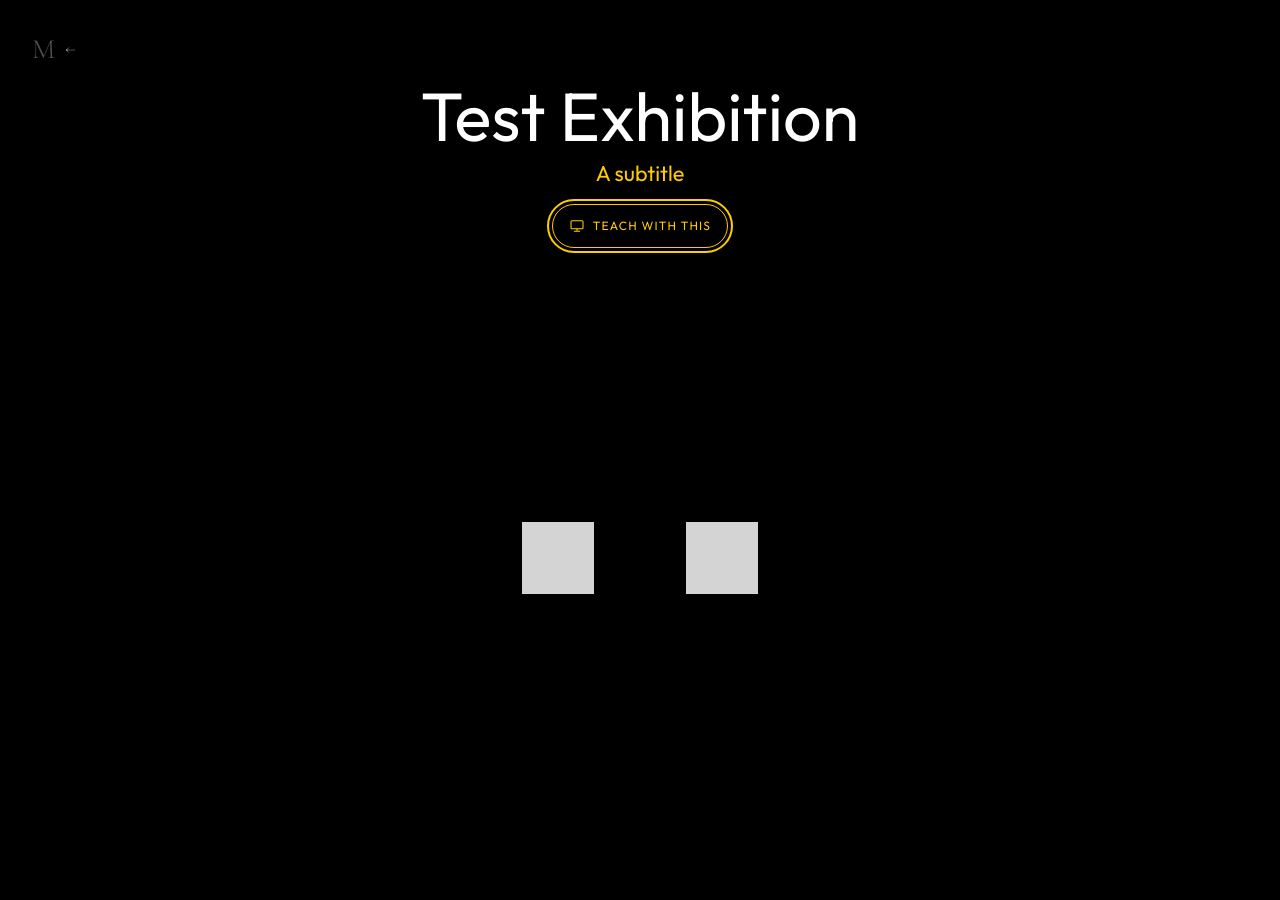
Test: PosterExhibition › opens "Teach with this" as a dialog: choose a role, see its lessons by grade, close on Escape
This screenshot has width=1280, height=900.
Click the button "Teach with this": (640, 226) [552,204,728,248]
Wait 50 ms
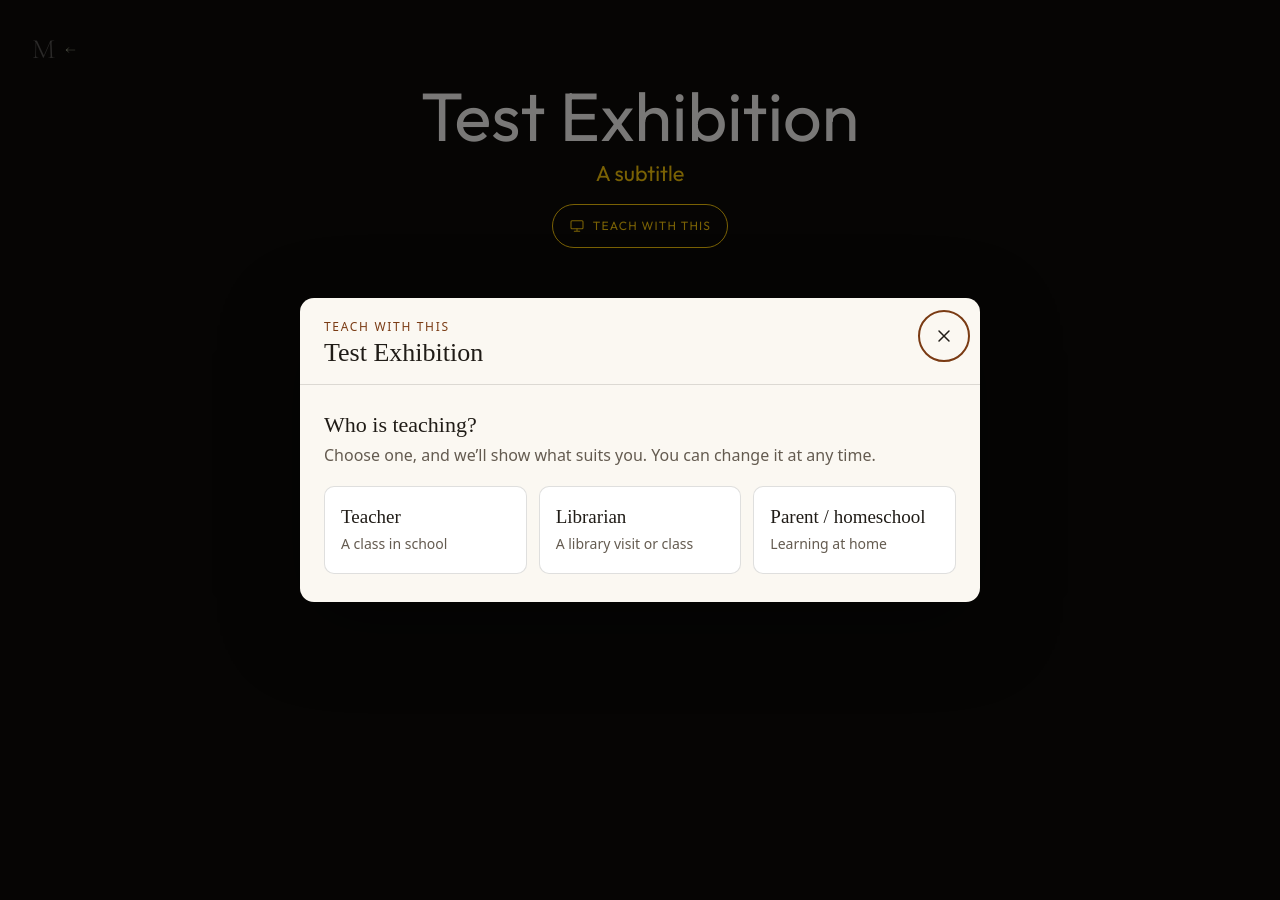
Expected: the heading "Who is teaching?" is shown, [324,412,477,437]
Click the button "Teacher A class in school": (425, 530) [324,486,527,574]
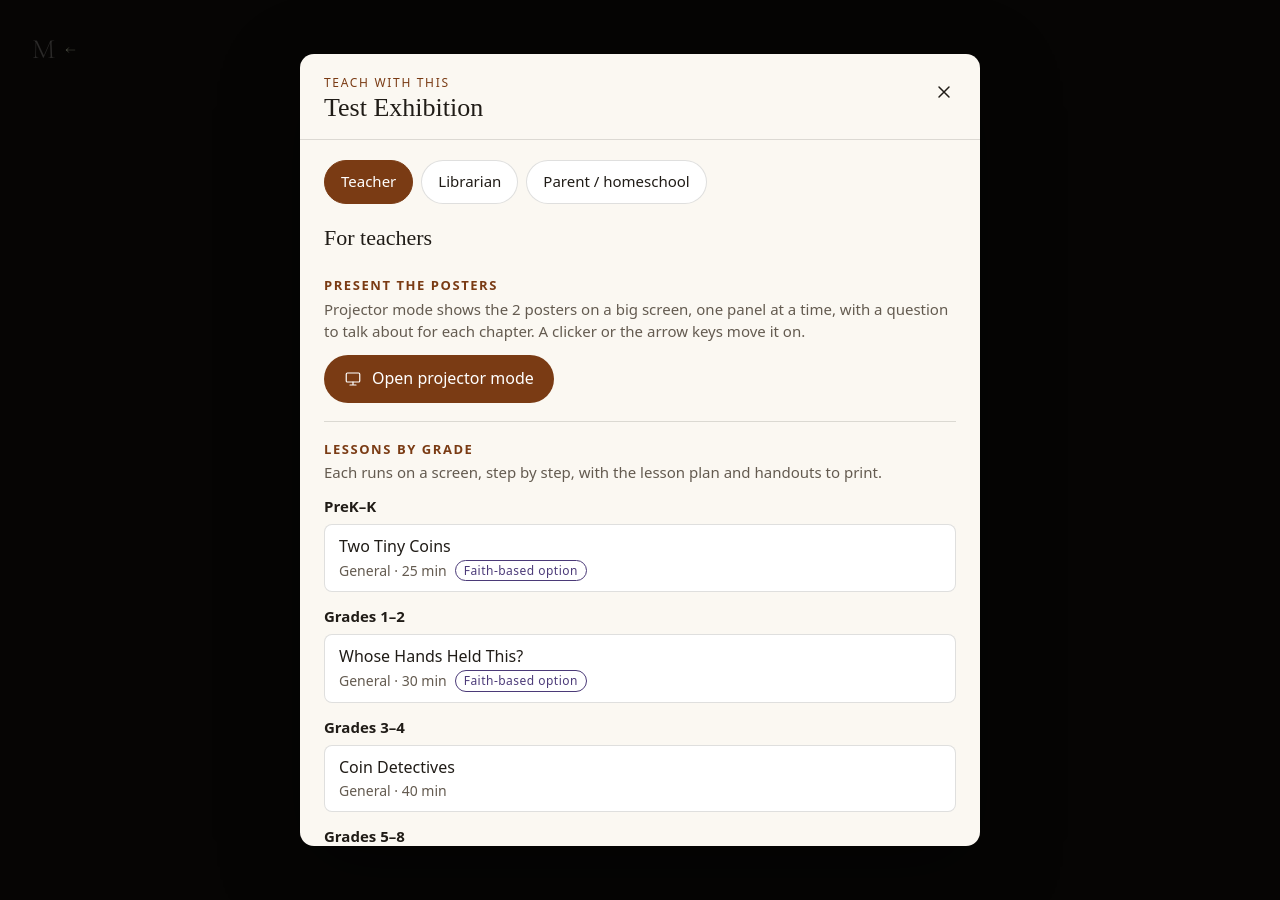
Expected: the link "Who Ruled Judaea?" does not show "Faith-based"
Expected: the heading "Lessons by grade" is shown, [324,440,474,458]
Expected: the heading "PreK–K" is shown, [324,496,376,516]
a parent leads with talking about it
Click the button "Parent / homeschool": (616, 182) [526,160,707,204]
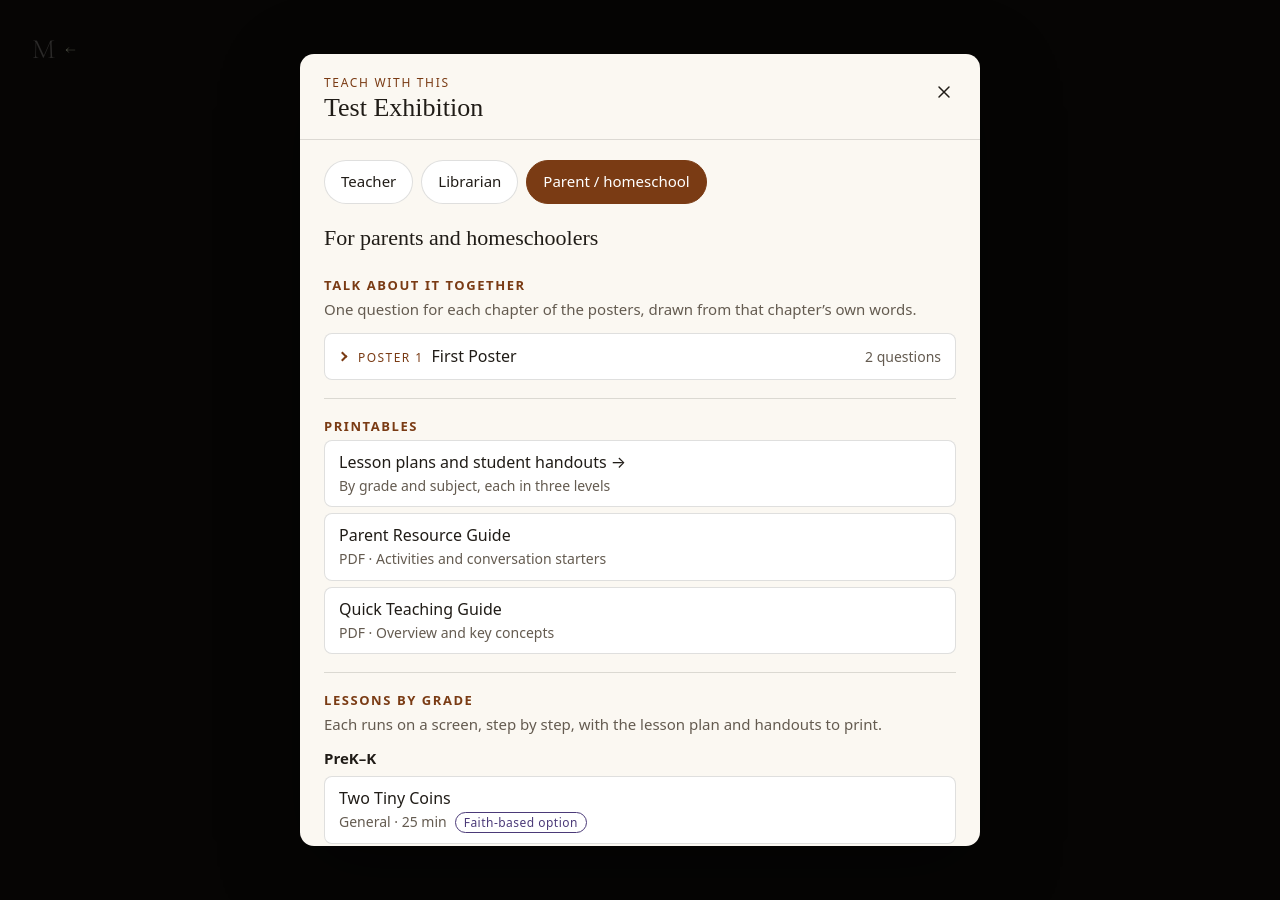
Expected: the heading "Talk about it together" is shown, [324,276,526,294]
Press Escape
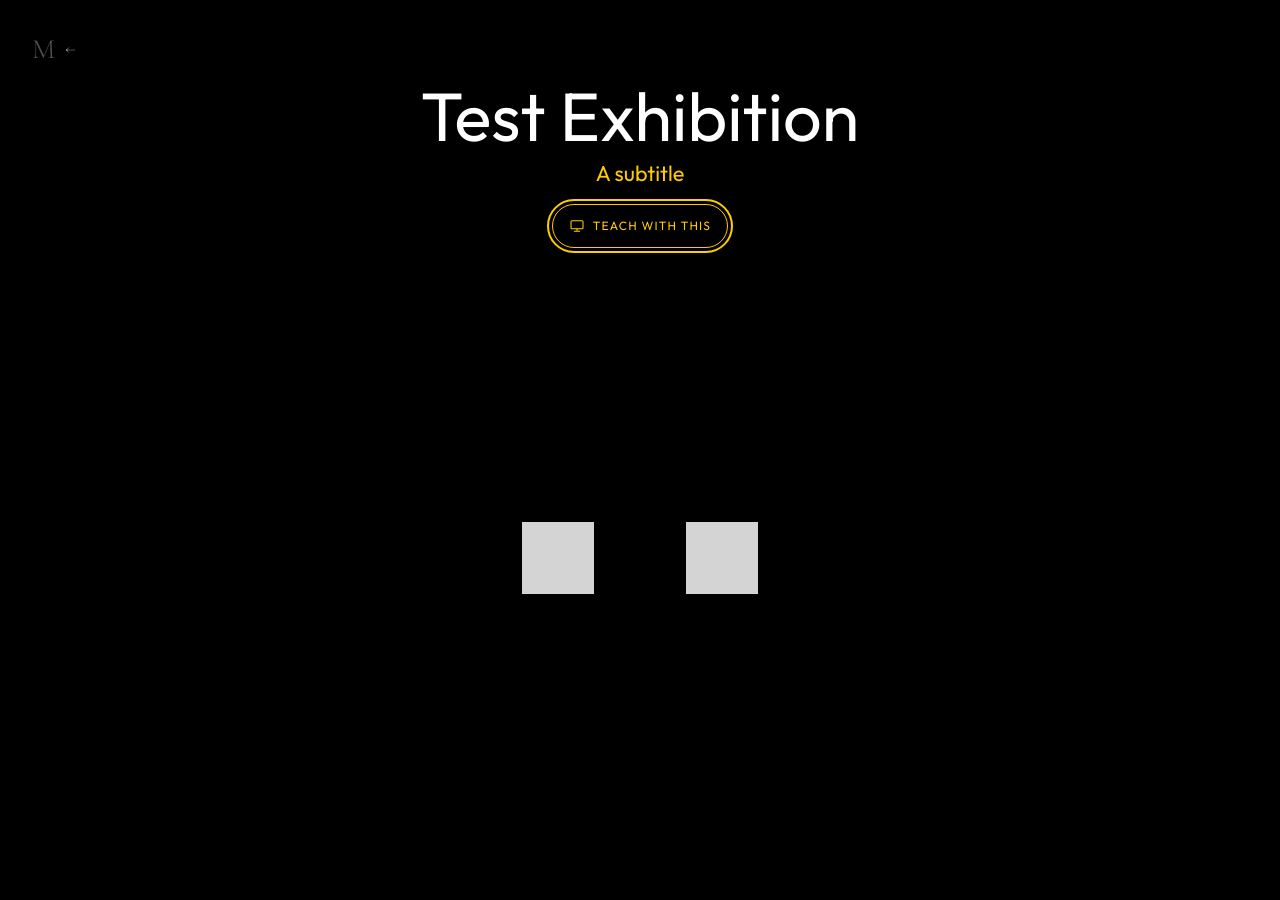
Expected: the heading "Test Exhibition" is shown, [421,81,859,152]
Expected: the dialog is gone
